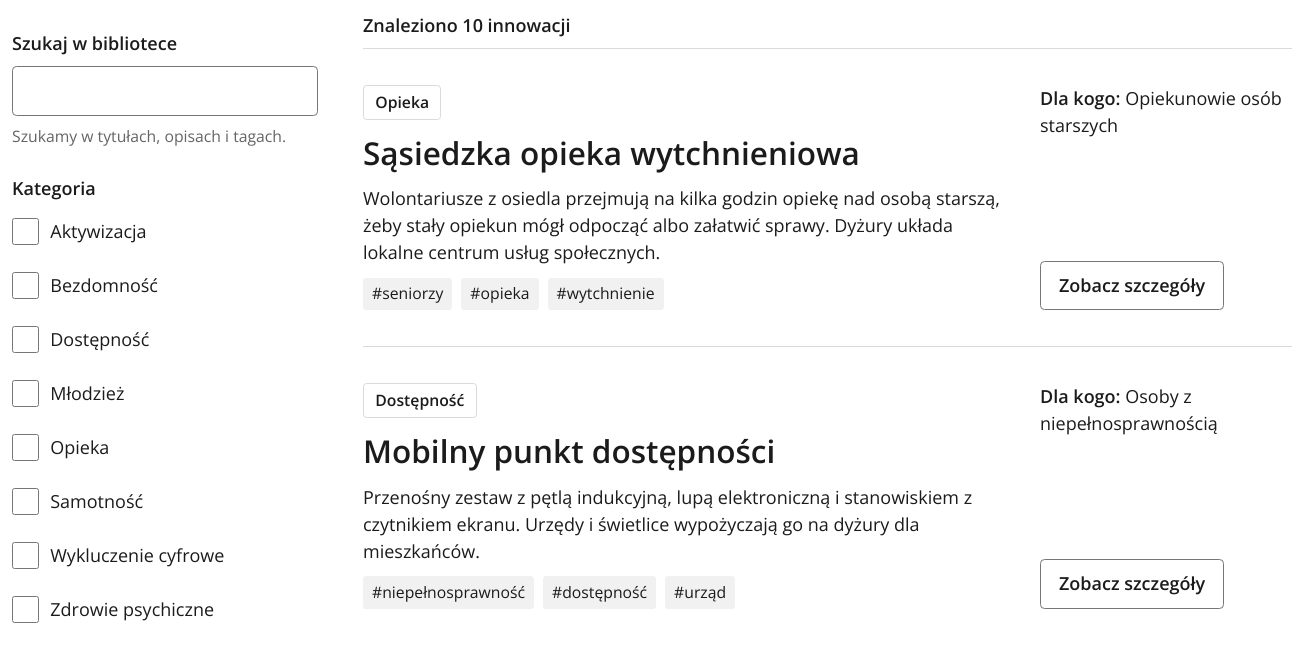
Test: InnovationLibrary › updates the count region after a search without diacritics
Type "swietlica" into the search field labelled "Szukaj w bibliotece" at point(165, 91), box [12, 66, 318, 116]
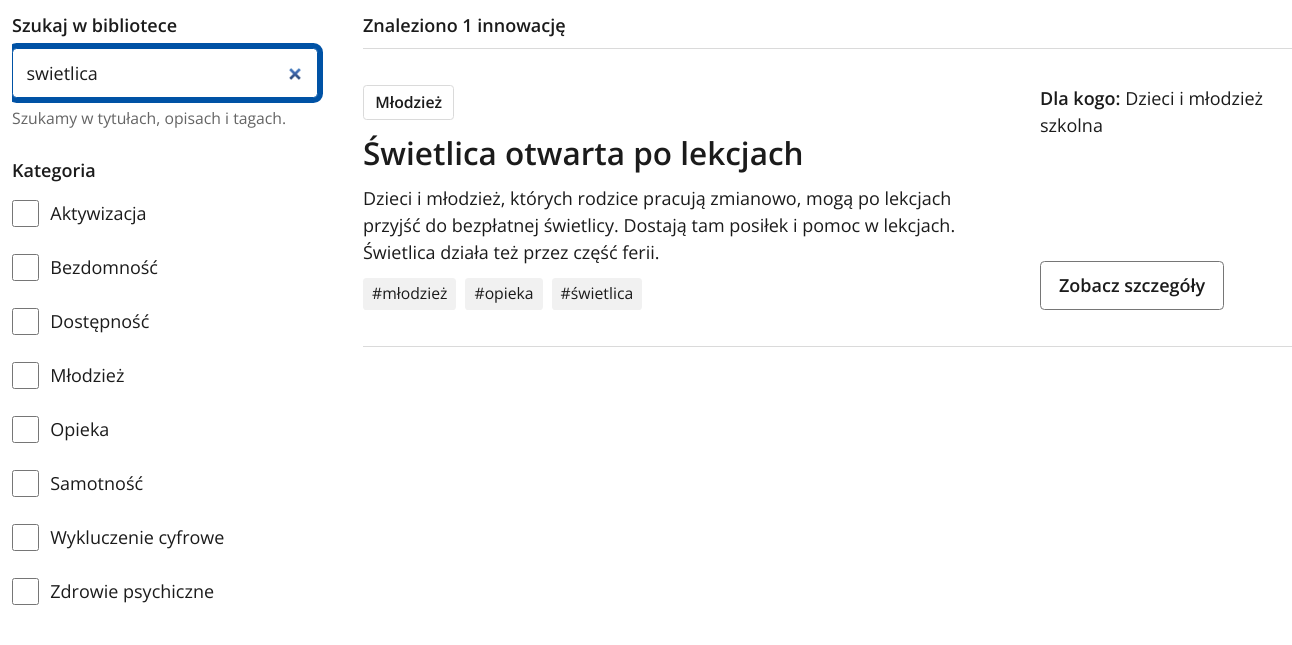
Expected: the heading "Świetlica otwarta po lekcjach" is shown, [363, 131, 804, 174]
Expected: the message reads "Znaleziono 1 innowację", [363, 13, 566, 37]
